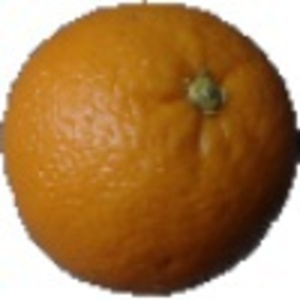laranja: (6, 3, 298, 294)
